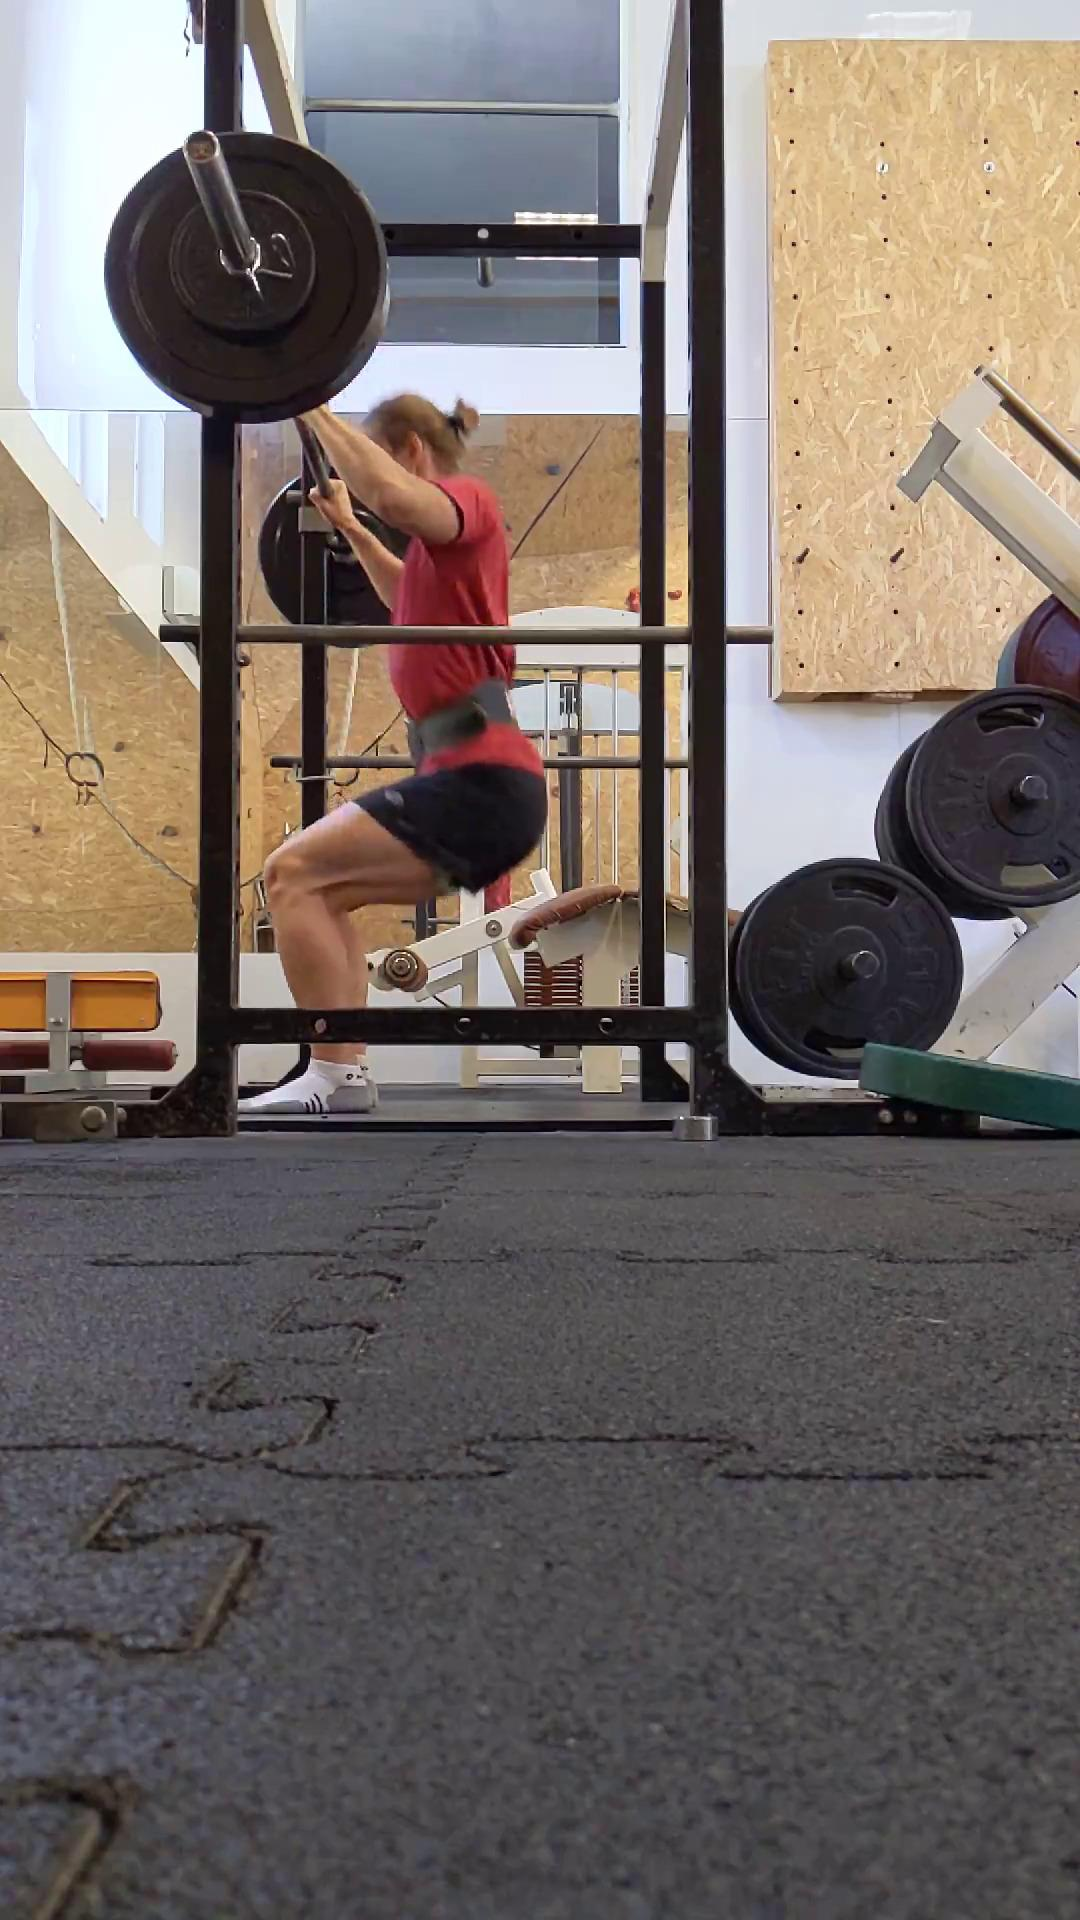barbell: (102, 128, 378, 406), (735, 858, 957, 1079), (905, 684, 1079, 906)
